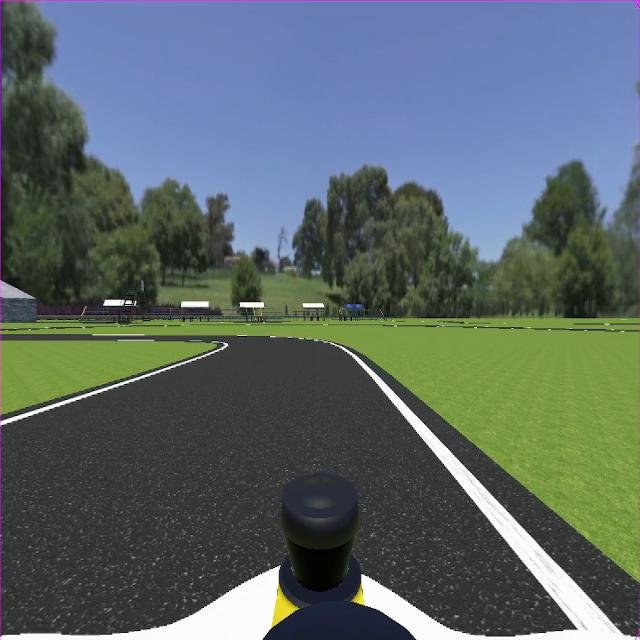road: (2, 340, 570, 633)
solid_line: (340, 348, 620, 635), (1, 343, 228, 428)
